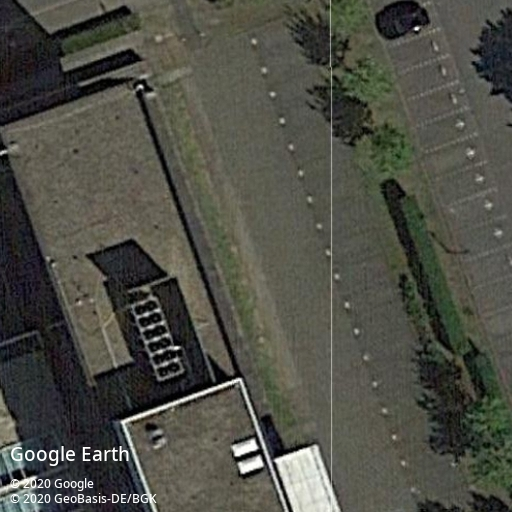Chiller: (131, 295, 186, 383)
